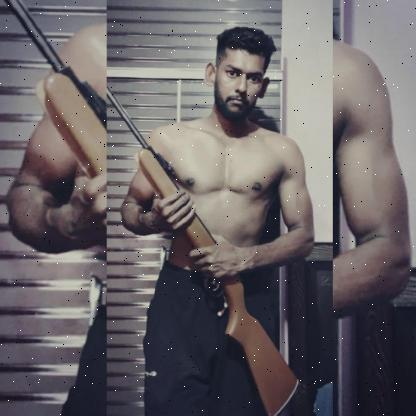rifle: (106, 86, 302, 416), (4, 0, 107, 180)
